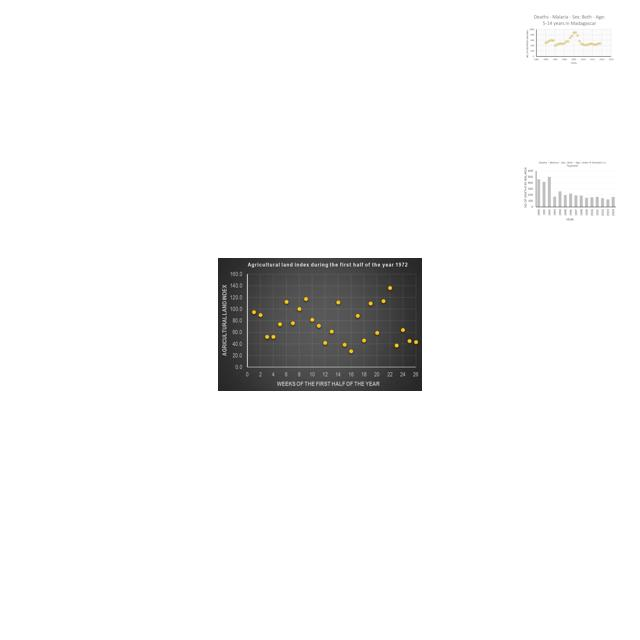Graph: (218, 258, 422, 391), (522, 160, 617, 222), (524, 13, 615, 66)
